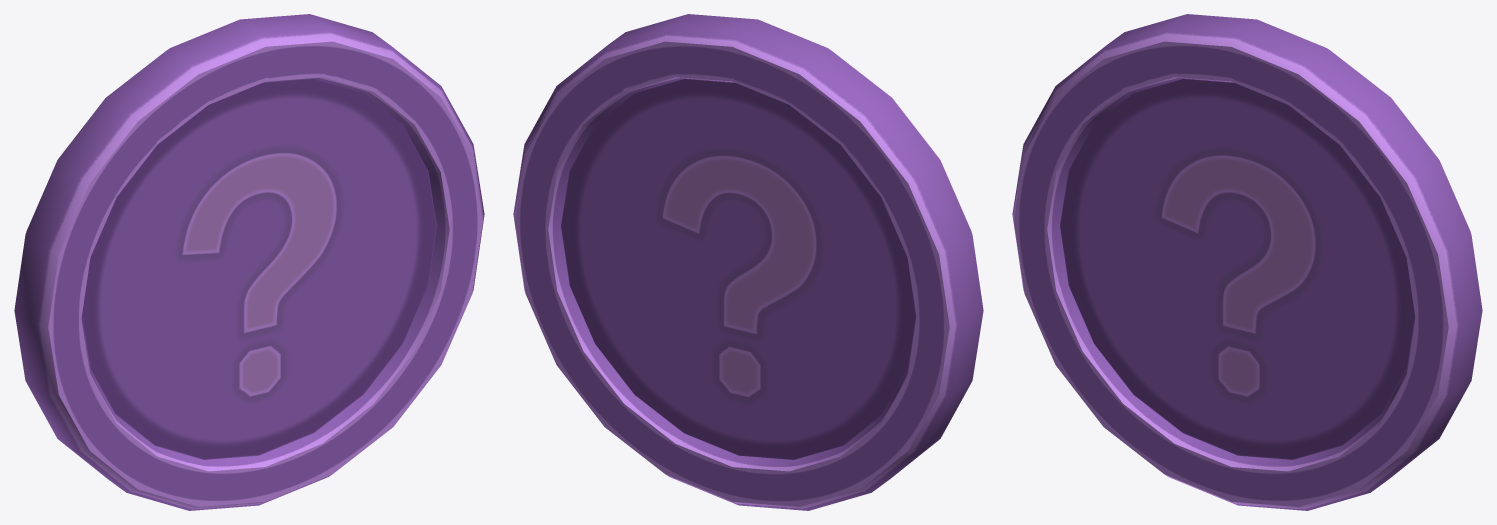
The model's file is Question coin.fbx.
3 views of the same model, side by side, from view 1: azimuth 30°, elevation 25°; view 2: azimuth 150°, elevation 25°; view 3: azimuth 330°, elevation 25° (orthographic).
Visible parts, largest first — view 1: pCylinder1; view 2: pCylinder1; view 3: pCylinder1.
Part boxes in pixels (bbox=[...]): pCylinder1: bbox=[14, 14, 484, 510]; pCylinder1: bbox=[513, 14, 983, 510]; pCylinder1: bbox=[1012, 14, 1482, 510].
Size of the model in its own units: 2.54 by 2.54 by 0.3137.
1 material, 1 textured.
